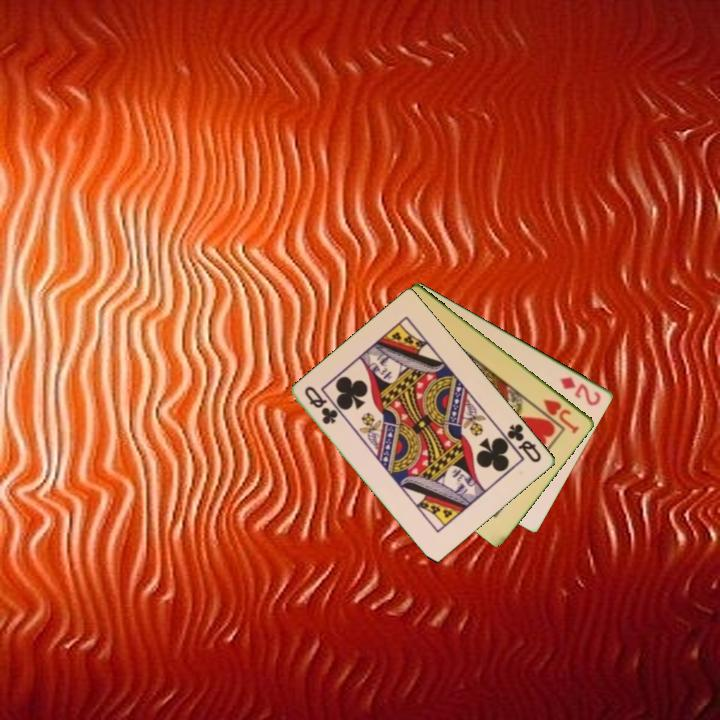2d: (557, 373, 604, 409)
Jh: (540, 396, 582, 437)
Qc: (499, 420, 545, 466), (301, 382, 341, 428)
